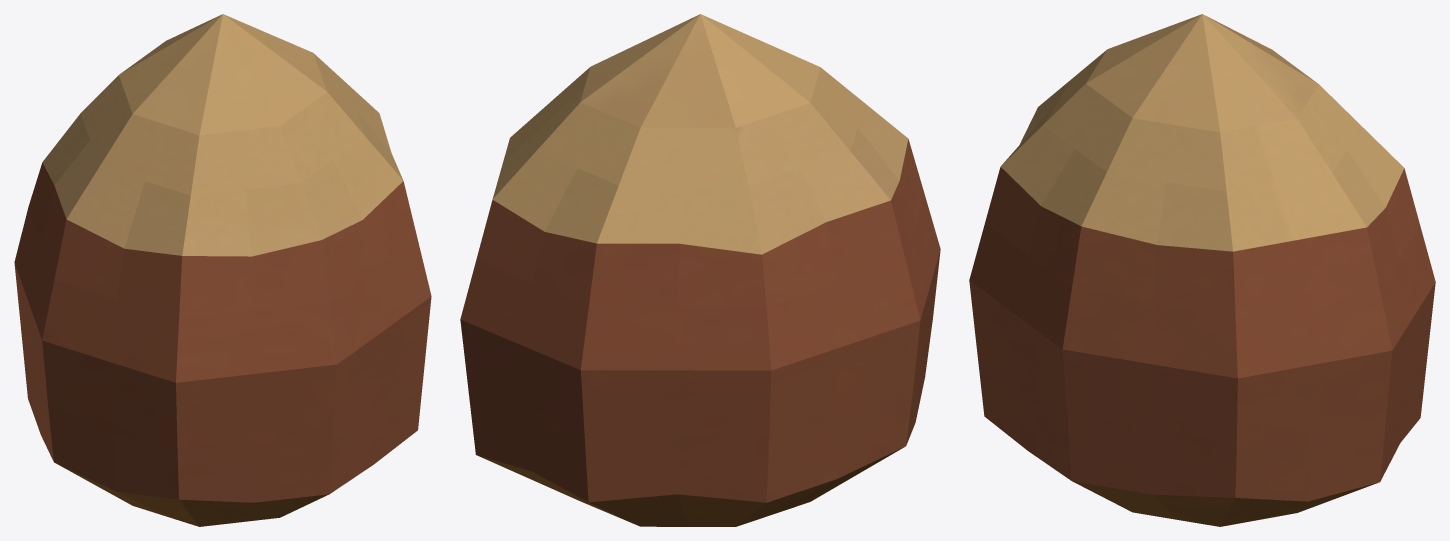
The model's file is fındıkv1.fbx.
3 renders of one model, left to right at view 1: azimuth 30°, elevation 25°; view 2: azimuth 150°, elevation 25°; view 3: azimuth 270°, elevation 25°, orthographic.
Parts seen in each view (by area): view 1: Sphere.004; view 2: Sphere.004; view 3: Sphere.004.
Part boxes in pixels (x1,y1,x2,y2): Sphere.004: (14, 14, 431, 526); Sphere.004: (460, 14, 940, 526); Sphere.004: (969, 14, 1435, 526).
Size of the model in its own units: 50.4 by 56.87 by 50.99.
1 material, 1 textured.
